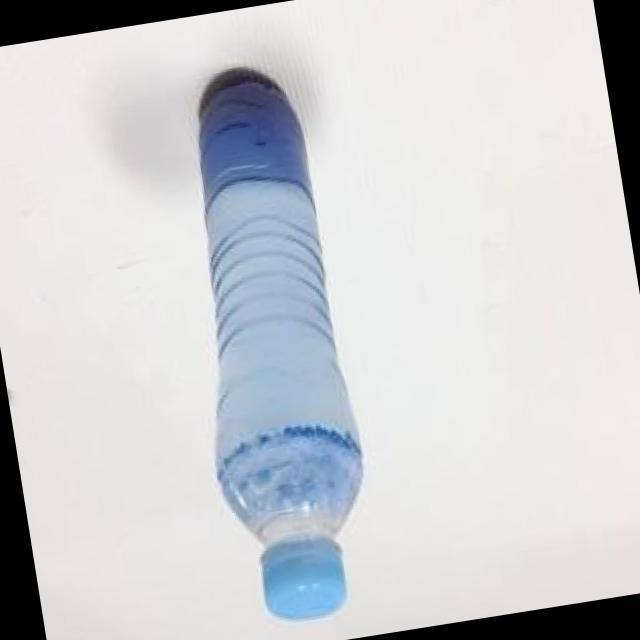good: (147, 33, 416, 640)
